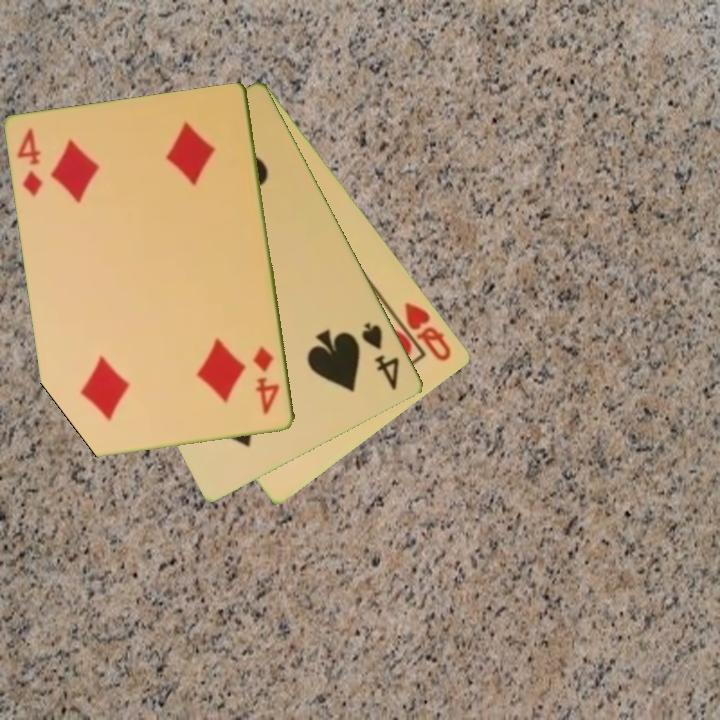4d: (249, 343, 283, 418), (14, 125, 46, 200)
4s: (358, 318, 403, 394)
Qh: (388, 298, 455, 364)
